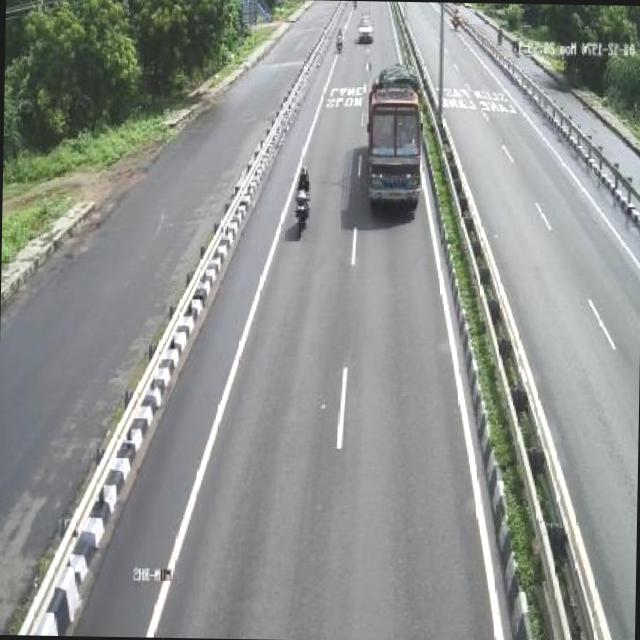car: (354, 10, 376, 44)
